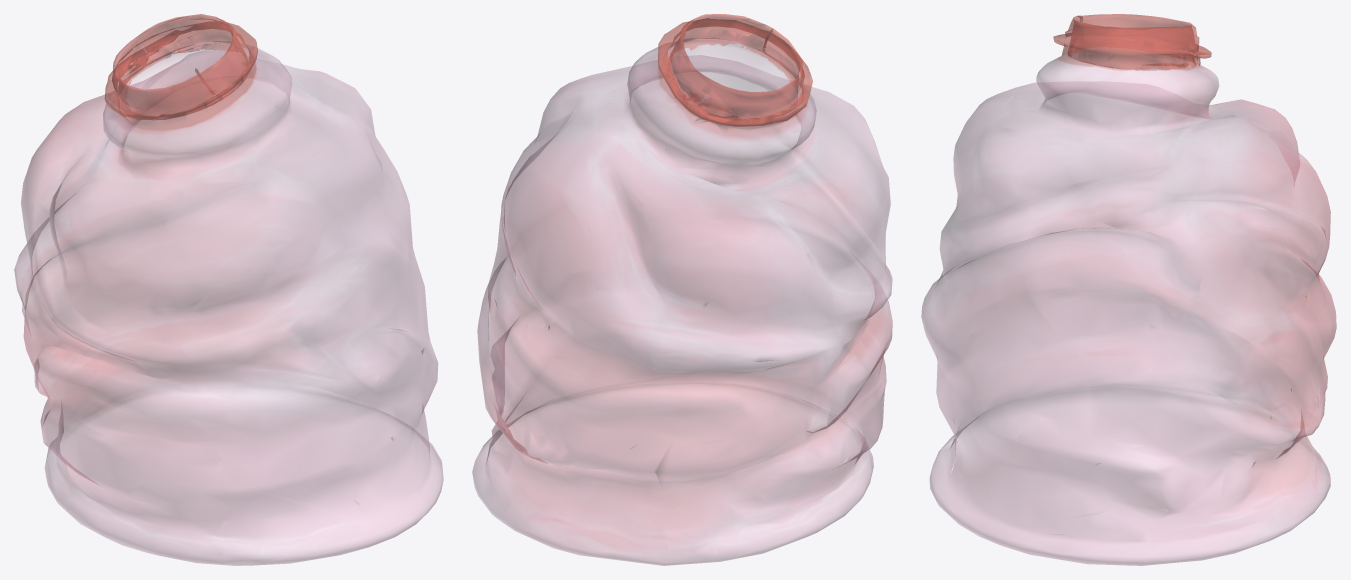
The model's file is 07_12_nj_et_pnk_m_trs.glb.
3 views of the same model, side by side, from view 1: azimuth 30°, elevation 25°; view 2: azimuth 150°, elevation 25°; view 3: azimuth 270°, elevation 25° (orthographic). The views are drawn at different scales.
Parts seen in each view (by area): view 1: pnk; view 2: pnk; view 3: pnk.
Boxes of the visible parts, left/top/right/bottom form: pnk: left=14, top=14, right=443, bottom=565; pnk: left=472, top=14, right=892, bottom=565; pnk: left=921, top=14, right=1336, bottom=565.
Bounding box in the file's own units: 0.2033 × 0.2501 × 0.2034.
1 material, 1 textured.
